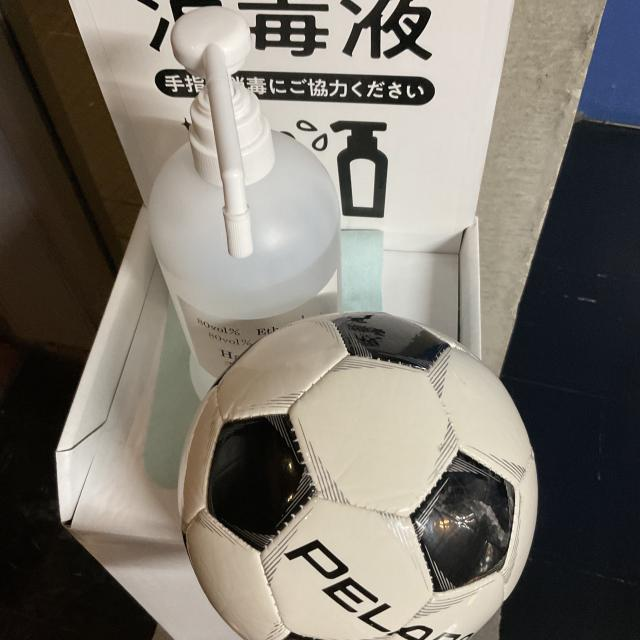ball: (176, 308, 556, 640), (175, 308, 554, 640)
